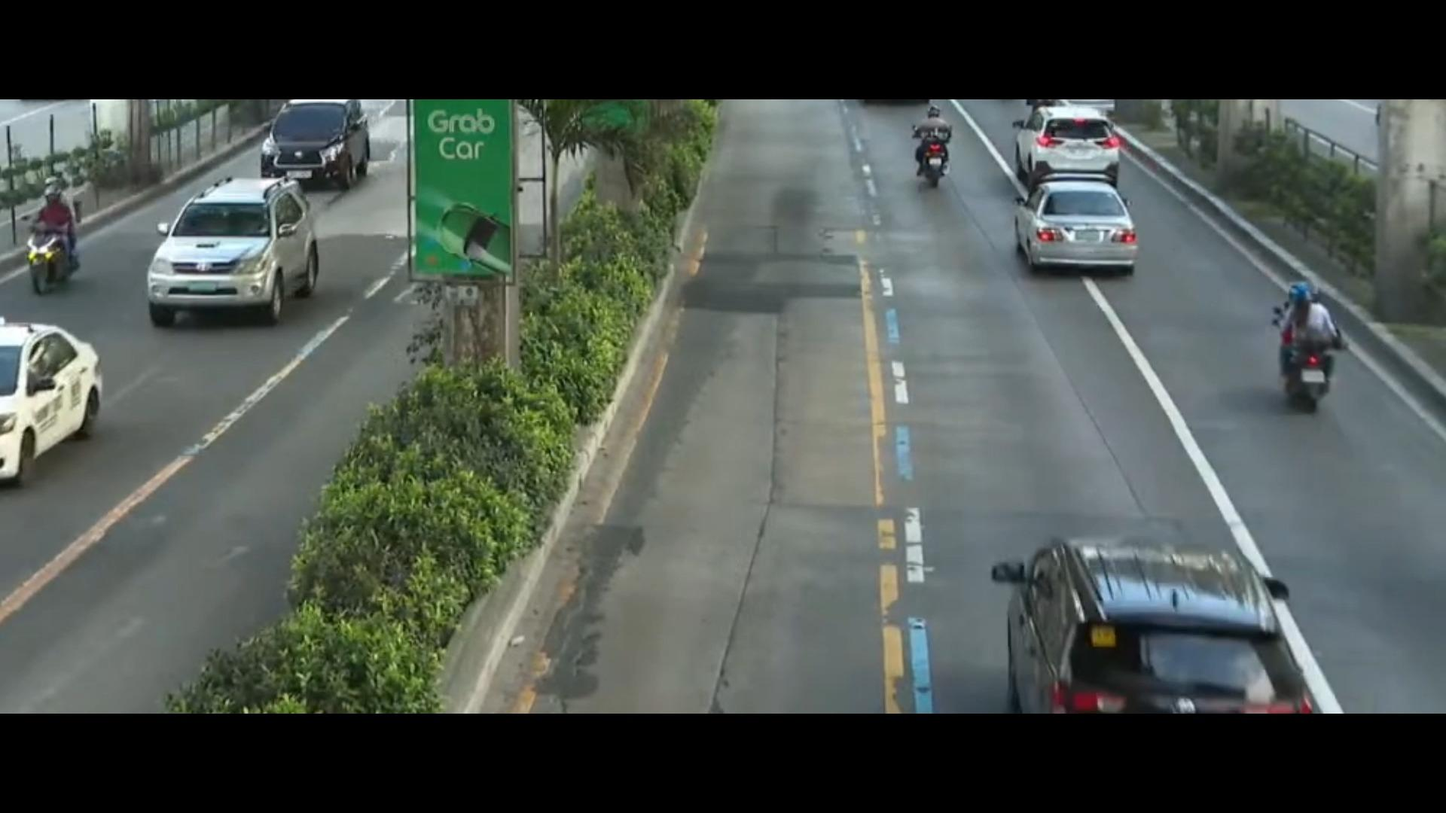Motorcycle: (1257, 262, 1384, 420), (13, 174, 100, 298), (899, 104, 985, 200)
SUV: (998, 514, 1324, 715), (143, 174, 337, 340), (257, 79, 390, 197), (1010, 98, 1134, 182)
Sedan: (0, 305, 127, 485), (1006, 170, 1170, 289)
